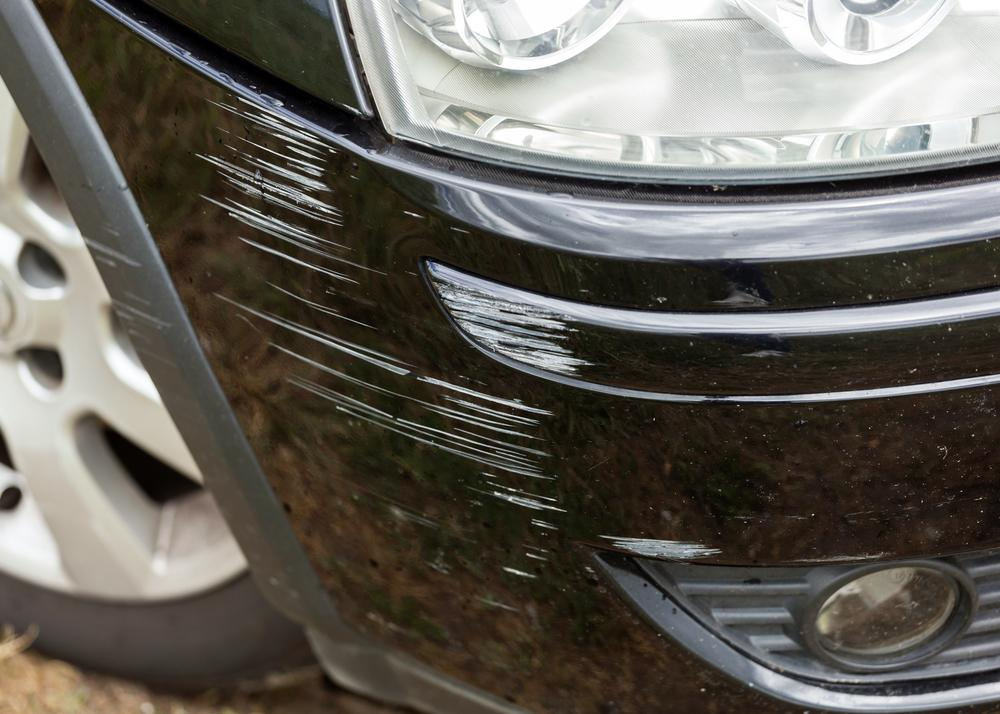scratch: (196, 80, 716, 611)
